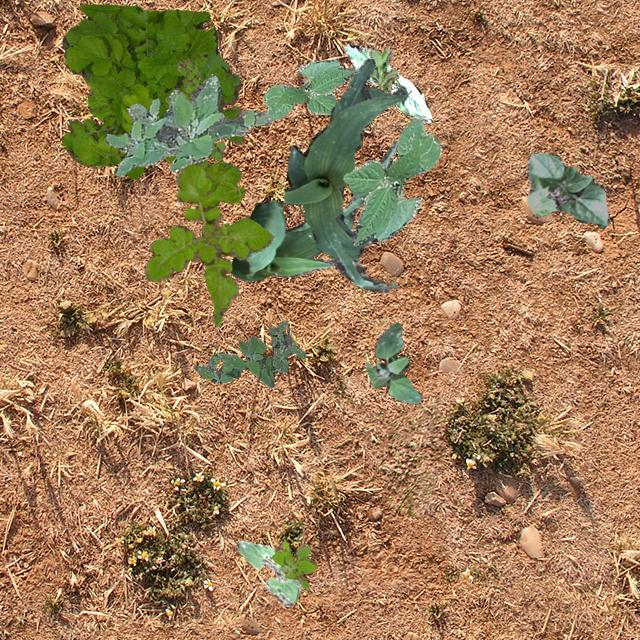crop: (282, 58, 403, 292), (230, 140, 398, 282), (342, 113, 440, 244), (342, 42, 432, 121), (526, 152, 608, 226), (262, 59, 354, 120), (236, 540, 300, 606)
weed: (60, 2, 244, 192), (144, 162, 272, 326), (104, 72, 270, 176), (193, 319, 304, 386), (163, 58, 224, 160), (362, 322, 420, 402), (270, 540, 316, 588), (368, 44, 399, 94)
